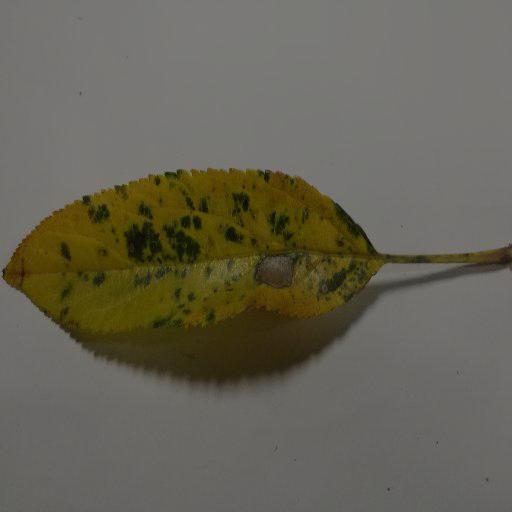Brown_Spot: (254, 247, 308, 289)
